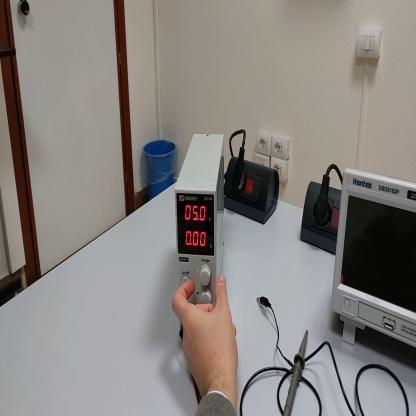hand: (172, 274, 239, 393)
oscilloscope: (331, 166, 416, 352)
oscilloscope probe tip: (283, 331, 310, 415)
power supply: (177, 132, 229, 312)
socket: (225, 159, 287, 225), (300, 180, 344, 257)
